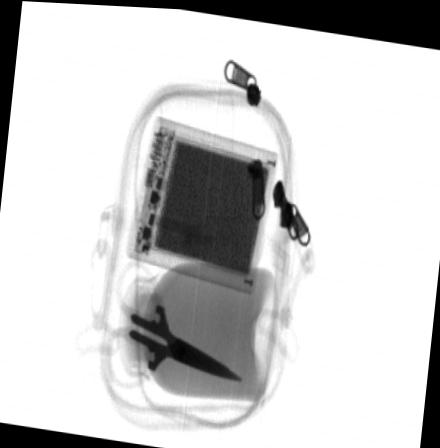Powerbank: (124, 112, 281, 295)
Scissors: (103, 256, 251, 386)
